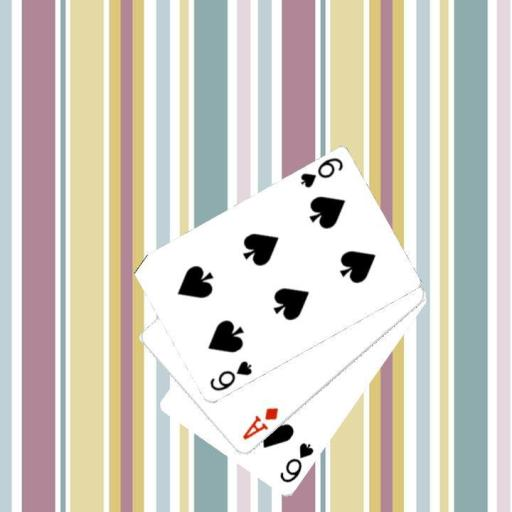6S: (276, 439, 315, 485), (296, 154, 345, 190), (206, 358, 253, 393)
AD: (239, 405, 280, 442)
